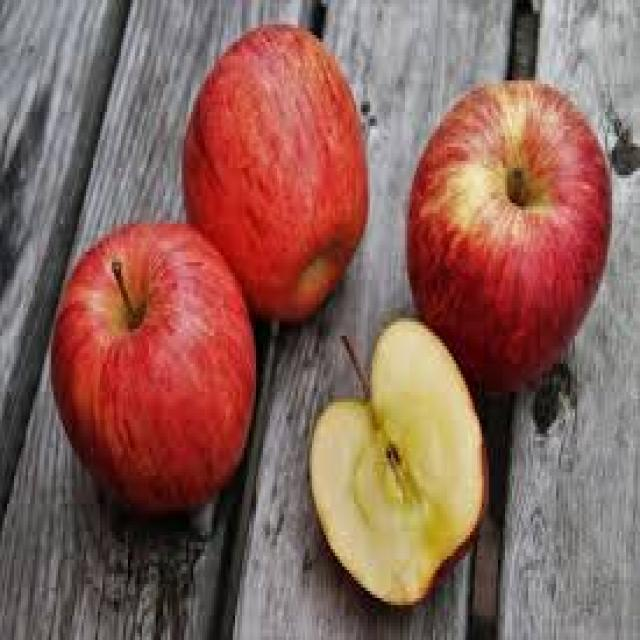apple: (400, 74, 619, 388), (46, 213, 260, 532), (296, 315, 496, 626), (186, 21, 382, 332)
